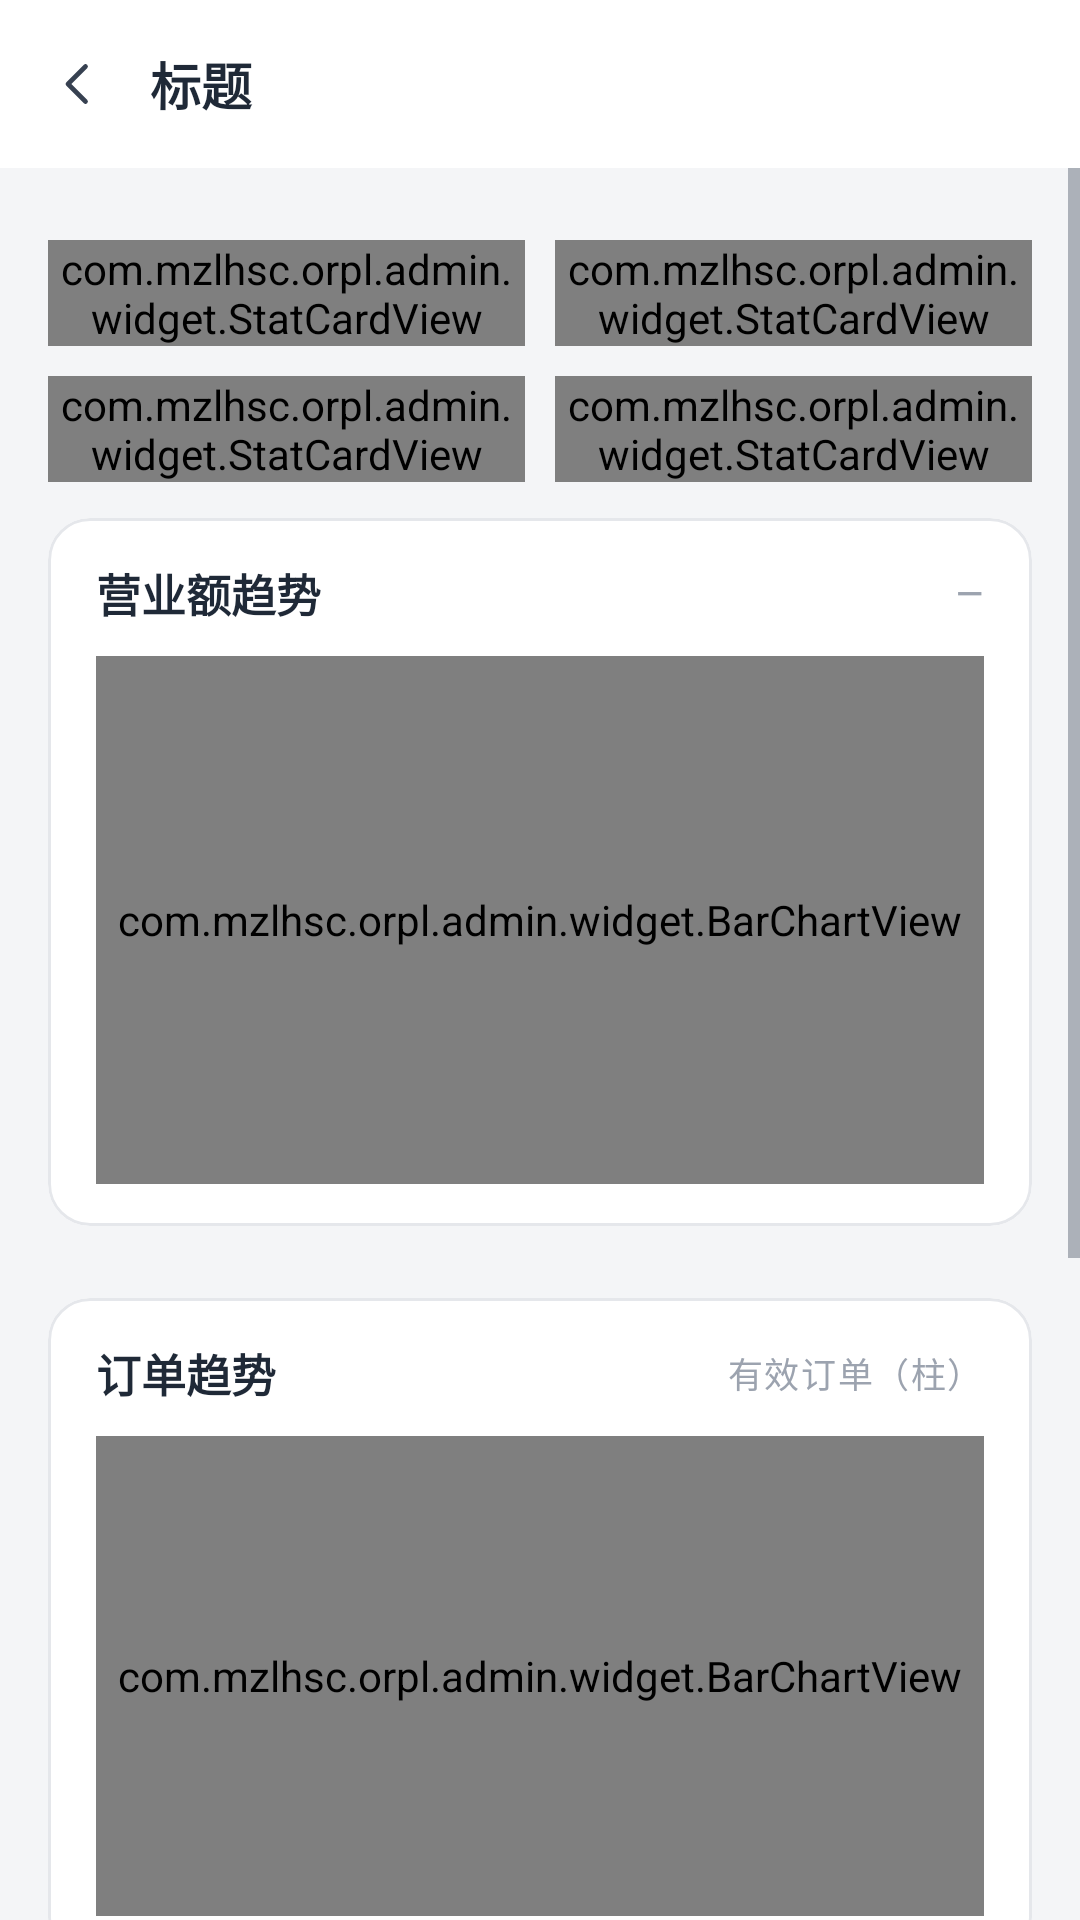

Where to tap for icons on this 1080 × 1920 app screen, as [x,y]:
返回: [76,84]
